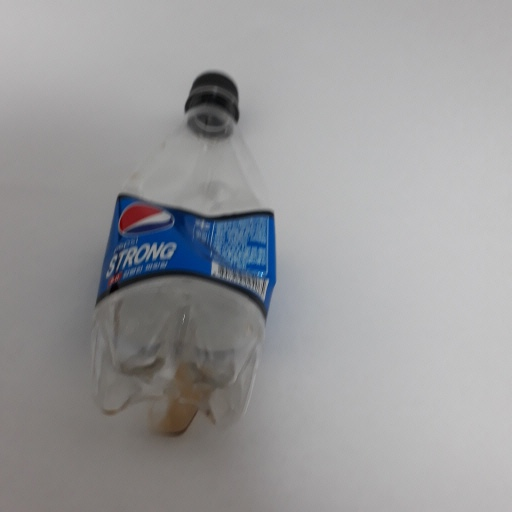Plastic_0: (89, 69, 280, 450)
